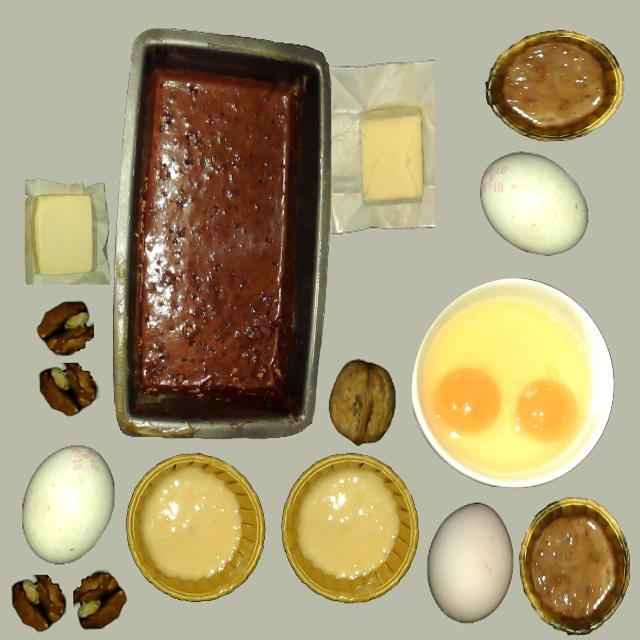Egg: (426, 306, 582, 472), (433, 367, 502, 436)
Walnut: (327, 341, 413, 447)
